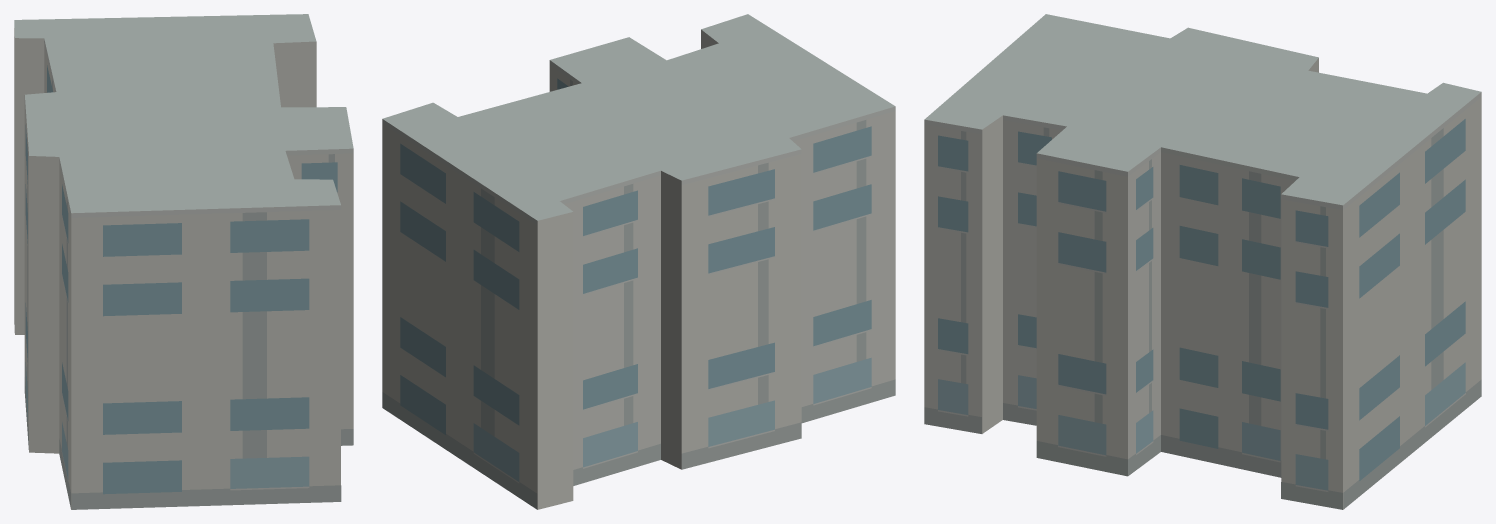
Rendered from survey-upis-32842168.glb.
3 renders of one model, left to right at view 1: azimuth 30°, elevation 25°; view 2: azimuth 150°, elevation 25°; view 3: azimuth 270°, elevation 25°, orthographic. The views are drawn at different scales.
Visible parts, largest first — view 1: survey-upis-32842168.tmp; view 2: survey-upis-32842168.tmp; view 3: survey-upis-32842168.tmp.
Boxes of the visible parts, left/top/right/bottom form: survey-upis-32842168.tmp: left=14, top=14, right=353, bottom=509; survey-upis-32842168.tmp: left=382, top=14, right=895, bottom=509; survey-upis-32842168.tmp: left=924, top=14, right=1481, bottom=509.
Size of the model in its own units: 20.22 by 15 by 24.89.
